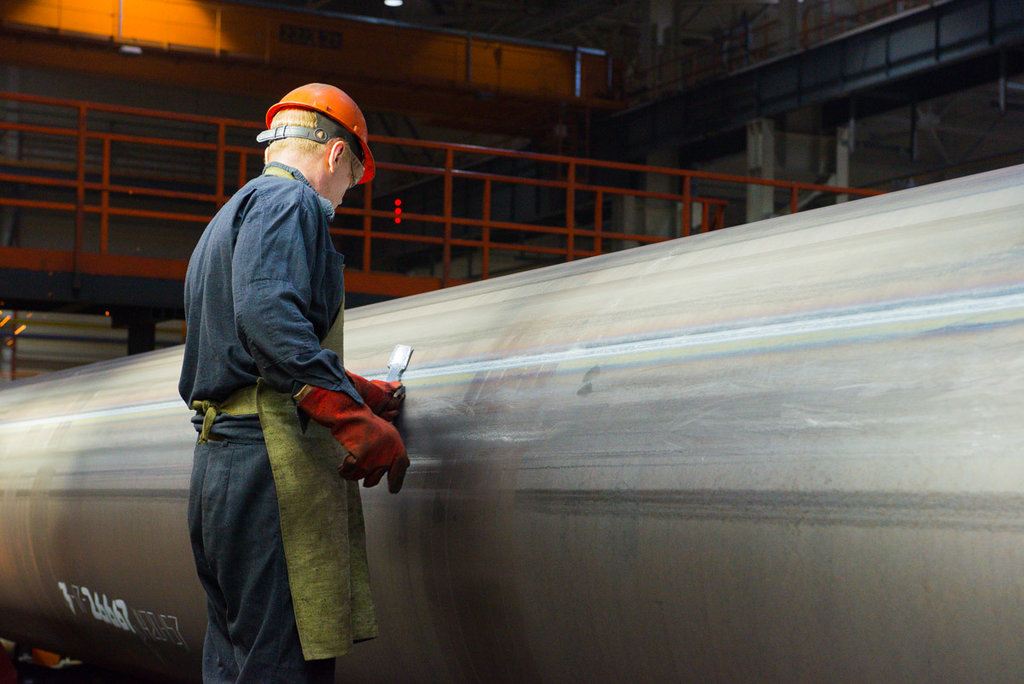person: (178, 83, 411, 684)
